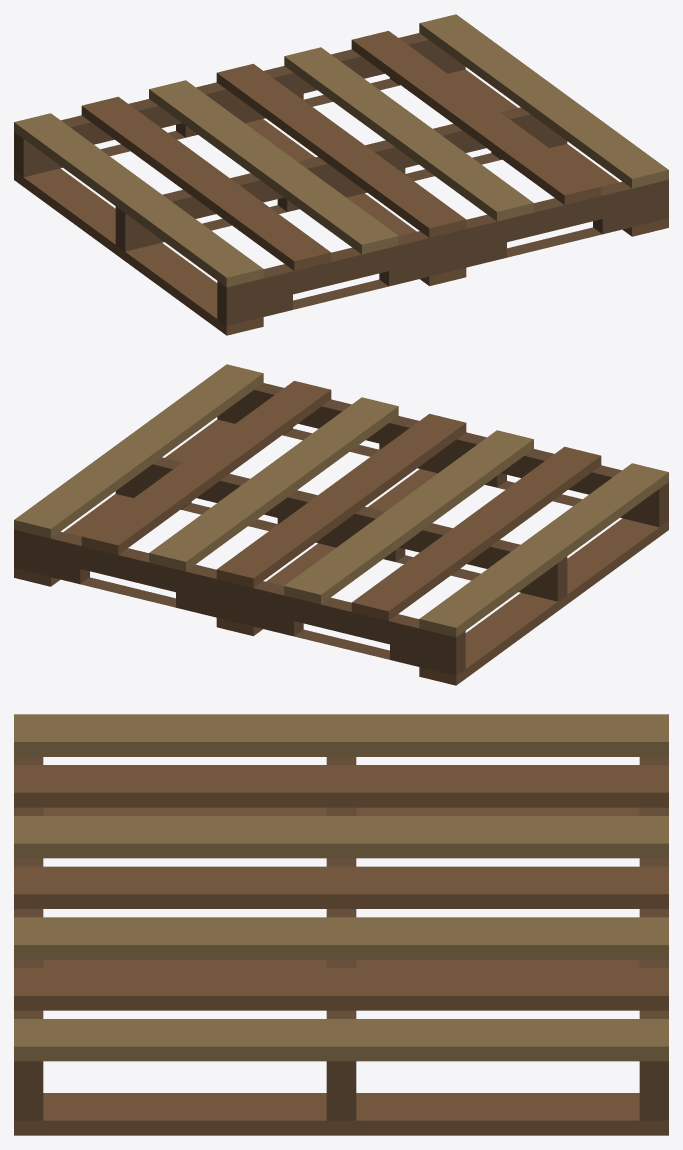
Rendered from palette.glb.
3 views of the same model, one above another, from view 1: azimuth 30°, elevation 25°; view 2: azimuth 150°, elevation 25°; view 3: azimuth 270°, elevation 25° (orthographic). The views are drawn at different scales.
Parts seen in each view (by area): view 1: top_a, stringers, top_b, bottom; view 2: top_a, stringers, top_b, bottom; view 3: top_a, top_b, bottom, stringers.
Boxes of the visible parts, left/top/right/bottom form: top_a: left=14, top=14, right=668, bottom=287; stringers: left=14, top=33, right=668, bottom=325; top_b: left=81, top=31, right=601, bottom=270; bottom: left=14, top=69, right=668, bottom=335; top_a: left=14, top=364, right=668, bottom=637; stringers: left=14, top=383, right=668, bottom=675; top_b: left=81, top=381, right=601, bottom=620; bottom: left=14, top=419, right=668, bottom=685; top_a: left=14, top=714, right=668, bottom=1061; top_b: left=14, top=765, right=668, bottom=1010; bottom: left=14, top=807, right=668, bottom=1135; stringers: left=14, top=757, right=668, bottom=1120.
Bounding box in the file's own units: 1.2 × 0.15 × 1.
3 materials, 3 textured.
